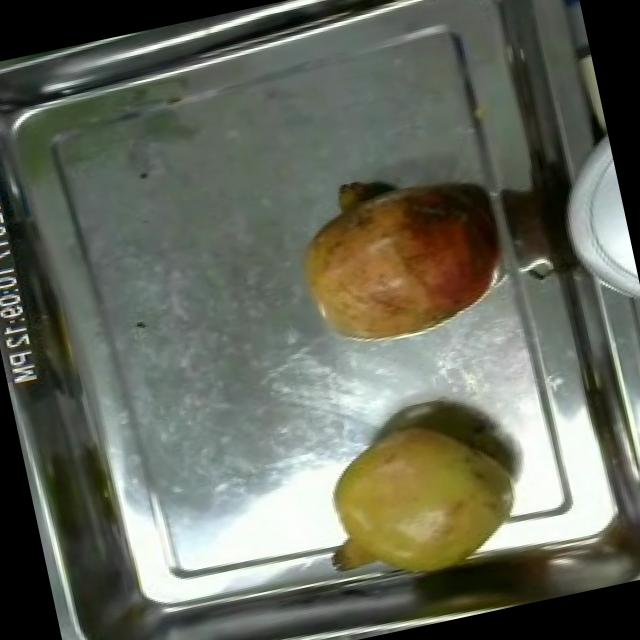fruit: (271, 150, 528, 368), (306, 398, 542, 596)
